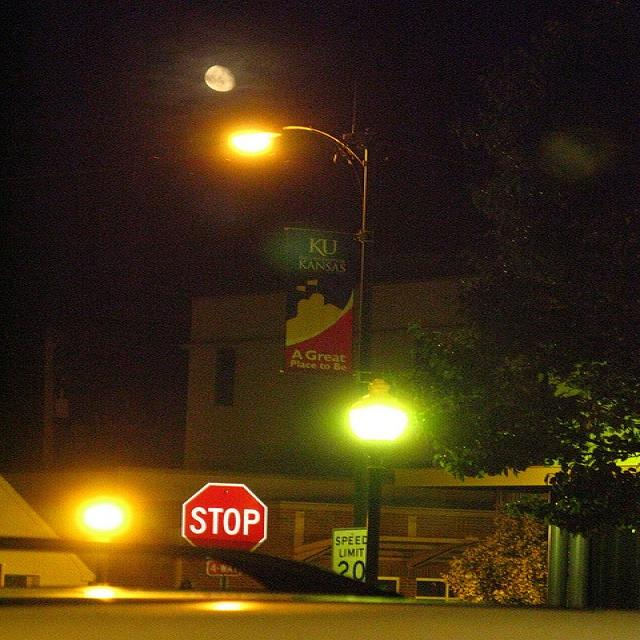car: (0, 466, 639, 631)
pole: (360, 455, 385, 586)
